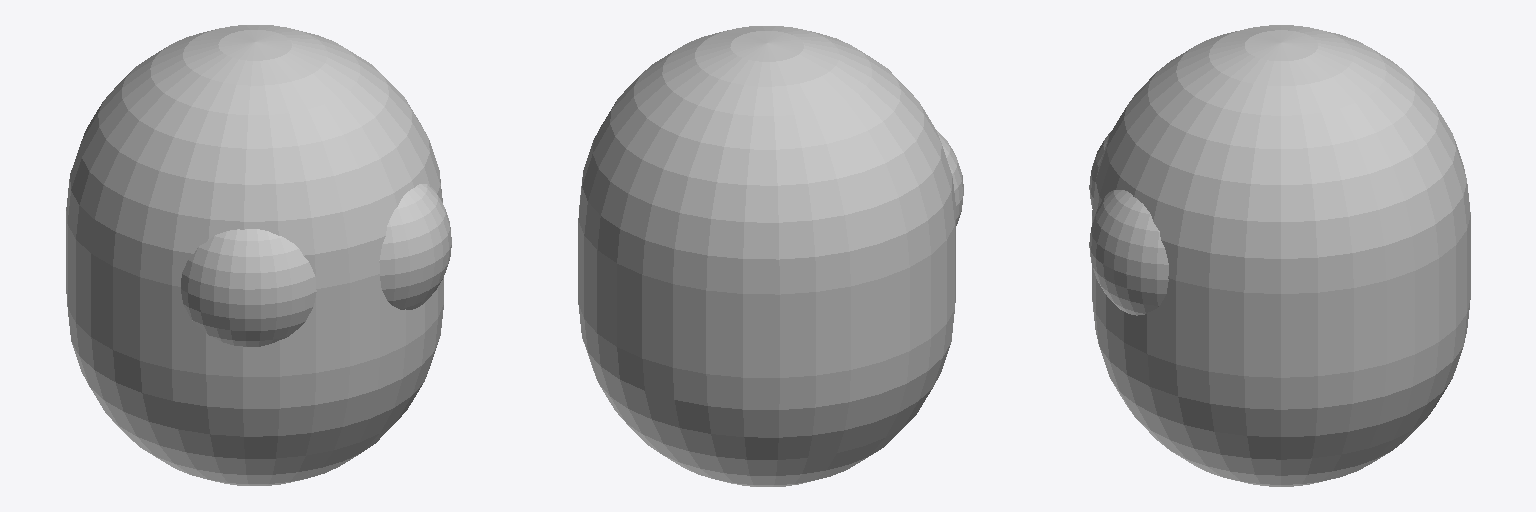
Rendered from character.obj.
The picture shows the model from 3 angles: view 1: azimuth 30°, elevation 25°; view 2: azimuth 150°, elevation 25°; view 3: azimuth 270°, elevation 25°; orthographic projection.
Visible parts, largest first — view 1: Skin, Eyes; view 2: Skin, Eyes; view 3: Skin, Eyes.
Part boxes in pixels (x1,y1,x2,y2): Skin: (66,25,443,485); Eyes: (181,184,451,346); Skin: (578,26,955,486); Eyes: (937,131,963,225); Skin: (1092,25,1470,486); Eyes: (1089,132,1168,315).
Bounding box in the file's own units: 2 × 2.49 × 2.01.